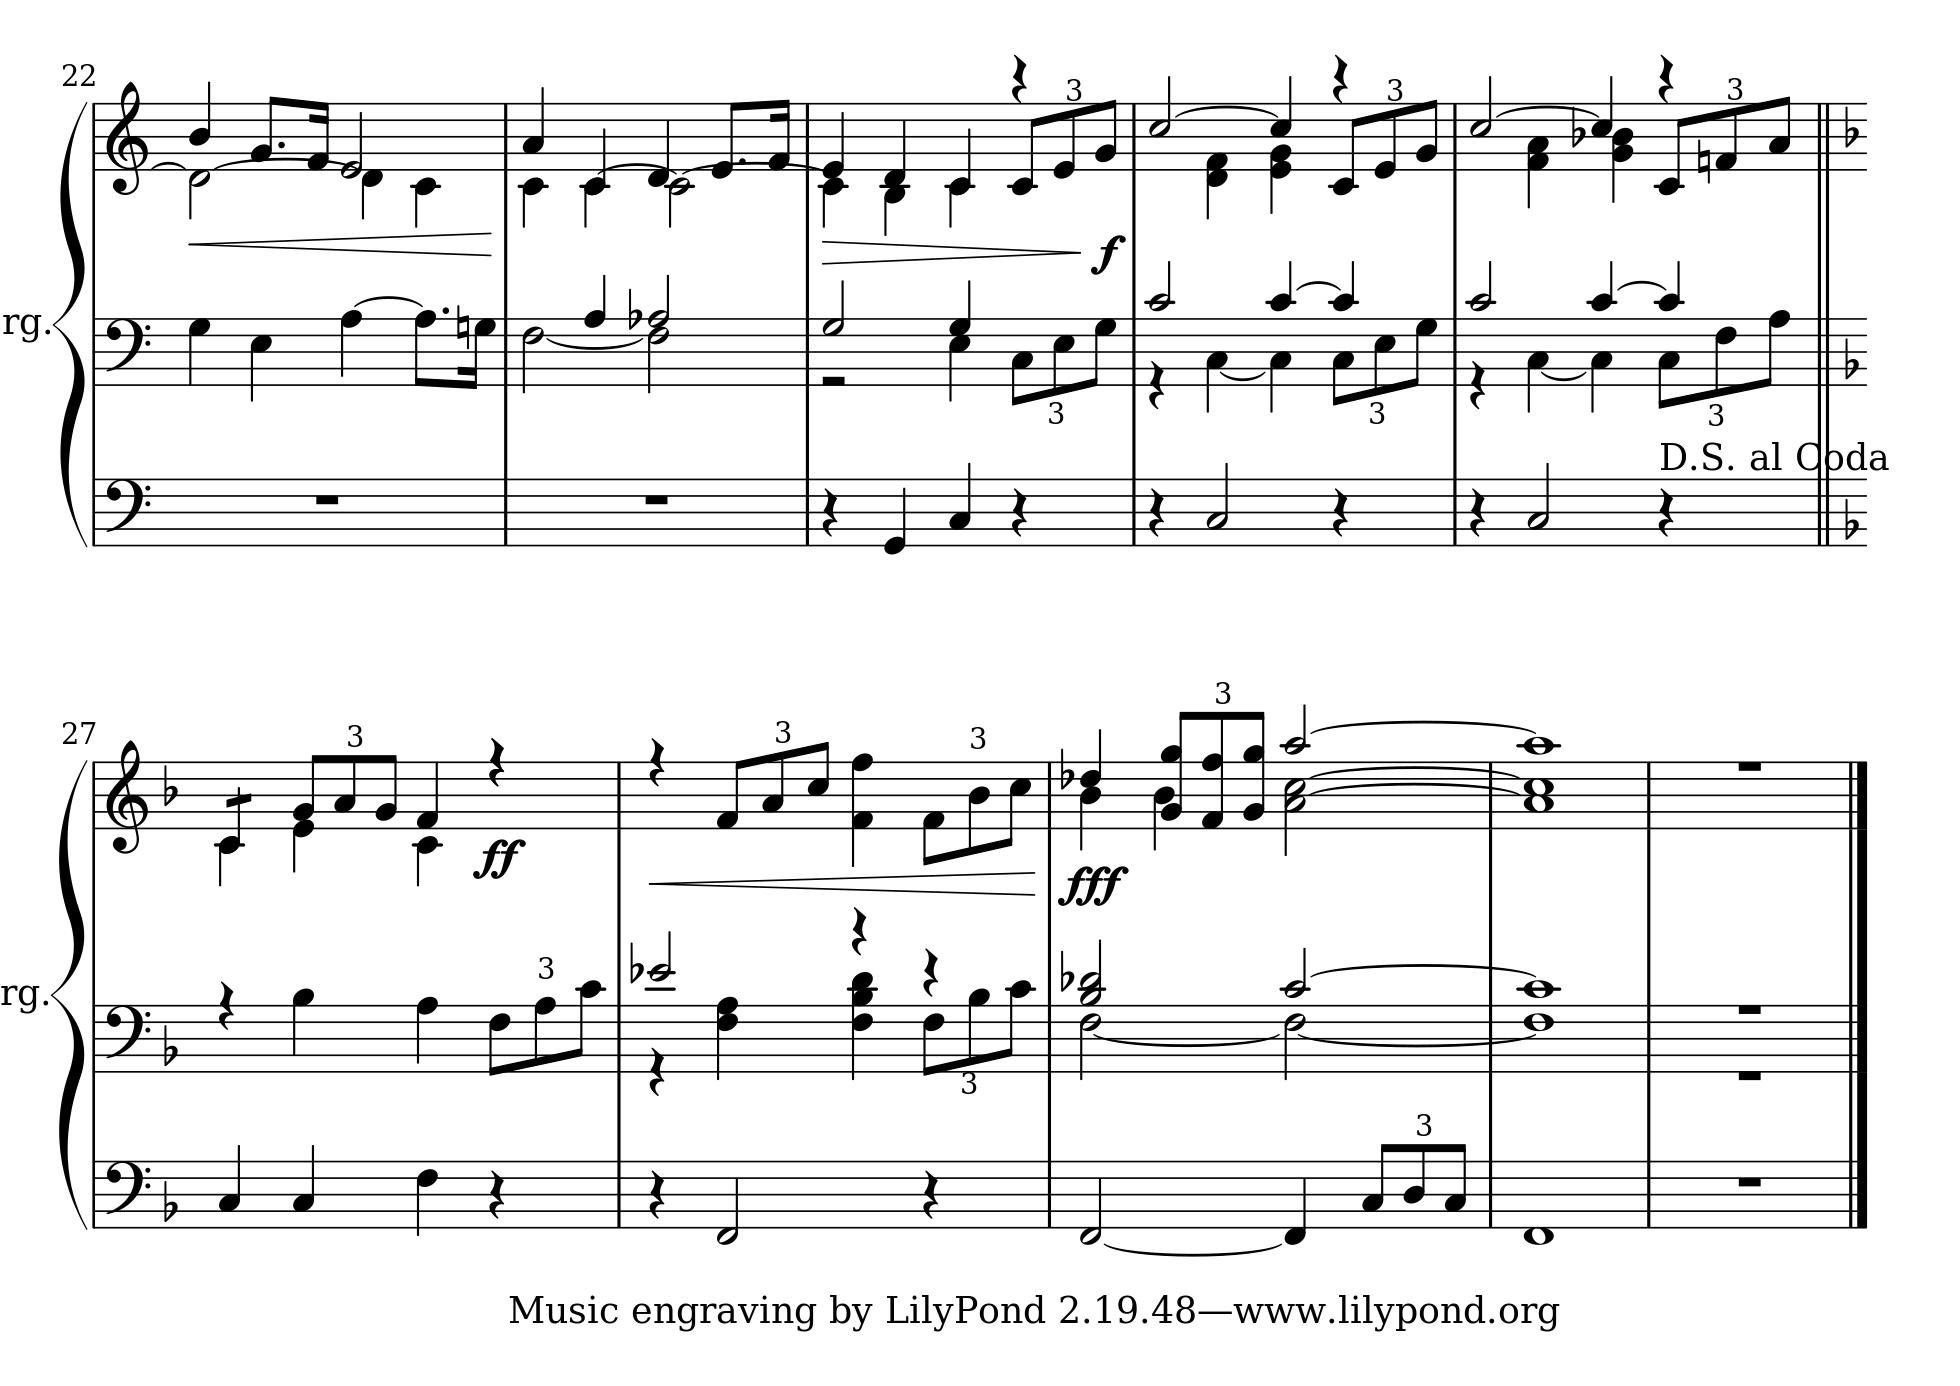16_1: (304, 100, 330, 172), (766, 97, 790, 172)
16_7: (462, 316, 498, 391)
1_-1: (1524, 1156, 1557, 1246)
1_6_10: (1524, 973, 1558, 1072)
1_th: (1521, 730, 1555, 829)
2: (58, 718, 79, 745), (60, 61, 79, 87), (78, 61, 96, 87)
2_-1: (1077, 1156, 1104, 1243), (715, 1158, 739, 1246)
2_0: (339, 100, 364, 180)
2_12: (646, 928, 678, 1071)
2_3: (1204, 460, 1231, 547), (1525, 462, 1552, 547)
2_5: (1147, 73, 1173, 172), (1468, 73, 1494, 172)
2_6: (520, 315, 544, 394), (1078, 1006, 1102, 1081)
2_6_10: (1284, 945, 1311, 1081)
2_6_8: (648, 271, 672, 394)
3: (958, 1072, 981, 1095), (1725, 75, 1744, 100), (1707, 402, 1726, 427), (346, 721, 364, 748), (1416, 1111, 1434, 1138), (1065, 76, 1083, 102), (1386, 76, 1404, 102), (1368, 399, 1386, 424), (969, 724, 987, 750), (537, 954, 555, 979), (1215, 679, 1231, 706), (1047, 400, 1065, 424), (774, 718, 792, 742)
4_-1: (360, 103, 382, 222), (1282, 1158, 1309, 1246), (646, 100, 670, 187)
4_-1_1: (1206, 100, 1230, 220)
4_-2: (411, 102, 439, 226), (946, 100, 973, 193)
4_-2_0: (816, 100, 850, 226)
4_-2_1: (411, 759, 441, 886)
4_-2_3: (520, 85, 550, 229)
4_-3_-1: (880, 100, 907, 238)
4_0: (882, 475, 907, 556)
4_1_3: (1527, 102, 1551, 211)
4_1_8: (849, 751, 874, 867)
4_2_4: (1614, 100, 1635, 202)
4_3: (1204, 316, 1230, 415), (1525, 316, 1551, 415), (1267, 318, 1293, 414), (1590, 316, 1614, 414), (948, 460, 973, 547), (217, 1141, 243, 1228), (291, 1141, 316, 1228)
4_4_6: (1078, 729, 1105, 853)
4_5: (247, 316, 273, 403), (1590, 75, 1612, 168)
4_5_7: (948, 277, 973, 403)
4_6: (414, 1158, 439, 1237)
4_6_8: (715, 996, 741, 1081)
4_7: (186, 316, 211, 387)
4_8: (339, 307, 364, 388), (414, 994, 439, 1075)
4_9: (289, 985, 316, 1074)
4_th: (844, 969, 877, 1081)
7: (79, 717, 97, 745)
8_-2: (1008, 100, 1044, 196), (1329, 102, 1363, 196), (1654, 102, 1689, 196)
8_0: (709, 99, 742, 180), (1051, 100, 1077, 178), (1372, 100, 1398, 178)
8_1: (919, 759, 945, 865), (714, 756, 748, 831), (1716, 100, 1740, 172)
8_10: (571, 979, 604, 1074), (1002, 979, 1033, 1074)
8_1_8: (1198, 711, 1227, 832)
8_2: (247, 94, 280, 171), (373, 753, 399, 831), (1095, 97, 1119, 172), (1416, 97, 1438, 172)
8_2_9: (1158, 711, 1194, 829), (1242, 709, 1269, 831)
8_3: (1360, 1141, 1393, 1230), (1329, 316, 1356, 406), (1656, 316, 1681, 409), (1009, 316, 1035, 406), (1443, 1141, 1468, 1230), (331, 751, 358, 831), (760, 748, 784, 831), (1767, 94, 1791, 171)
8_4: (966, 759, 990, 856), (1402, 1141, 1428, 1228)
8_5: (1002, 759, 1032, 847), (805, 739, 831, 829), (1051, 315, 1075, 397), (1372, 315, 1396, 397)
8_6: (1713, 315, 1738, 399), (487, 1003, 511, 1078), (921, 1003, 945, 1077)
8_7: (1087, 316, 1117, 388), (1407, 316, 1437, 388)
8_8: (582, 271, 607, 387), (1758, 307, 1791, 388), (412, 307, 438, 390), (532, 994, 556, 1075)
8_9: (966, 985, 990, 1075)
Brace: (49, 753, 88, 1234), (54, 100, 85, 559)
Crescendo_hairpin: (652, 871, 1038, 898), (187, 231, 493, 256)
DSalcoda: (1656, 439, 1897, 475)
Diminuendo_hairpin: (823, 240, 1084, 264)
Double_barline: (1812, 316, 1836, 385), (1813, 475, 1834, 544), (1815, 100, 1834, 169)
Fclef: (103, 1002, 151, 1074), (103, 315, 151, 385), (103, 1158, 151, 1228), (103, 475, 151, 544)
Final_barline: (1843, 760, 1872, 828), (1842, 1159, 1869, 1225), (1843, 1003, 1869, 1069)
Flat: (160, 762, 180, 808), (1842, 103, 1860, 150), (1569, 103, 1587, 148), (1842, 334, 1860, 379), (1842, 496, 1860, 541), (625, 286, 642, 331), (162, 1021, 178, 1066), (162, 1177, 178, 1222), (1059, 745, 1074, 792), (628, 939, 643, 984), (1059, 946, 1074, 991)
Gclef: (103, 79, 148, 196), (103, 738, 148, 855)
Natural: (1695, 136, 1713, 184), (454, 303, 471, 351)
Rests1: (310, 489, 343, 508), (640, 490, 672, 508), (1735, 1065, 1764, 1084), (1734, 1171, 1764, 1189), (1734, 757, 1765, 774), (1735, 1000, 1765, 1017)
Rests2: (817, 370, 849, 391)
Rests4: (484, 1168, 508, 1222), (819, 484, 841, 538), (1146, 484, 1168, 538), (1467, 484, 1489, 538), (645, 1168, 667, 1222), (847, 904, 870, 957), (919, 1168, 942, 1221), (646, 1044, 667, 1099), (1146, 358, 1167, 412), (1009, 484, 1030, 538), (1330, 484, 1351, 538), (1656, 484, 1677, 538), (486, 735, 507, 789), (1008, 51, 1029, 103), (1468, 358, 1489, 411), (919, 945, 940, 997), (1330, 52, 1351, 103), (1656, 52, 1677, 103), (646, 736, 667, 787), (217, 979, 237, 1030)
Single_barline: (496, 316, 516, 385), (496, 103, 516, 169), (798, 318, 817, 384), (796, 478, 816, 544), (609, 762, 628, 828), (1125, 316, 1143, 385), (1446, 316, 1464, 385), (496, 478, 514, 546), (1125, 478, 1143, 544), (1446, 478, 1464, 544), (1639, 760, 1657, 826), (1639, 1003, 1657, 1069), (1482, 1005, 1500, 1071), (1482, 1159, 1500, 1225), (610, 1003, 627, 1072), (87, 1003, 103, 1072), (1042, 1003, 1059, 1072), (799, 102, 816, 168), (1126, 103, 1143, 169), (1447, 103, 1464, 169), (1483, 760, 1500, 826), (87, 760, 103, 826), (1042, 760, 1059, 826), (1041, 1159, 1057, 1225), (610, 1159, 627, 1225), (1641, 1159, 1657, 1225), (87, 102, 102, 169), (88, 318, 103, 385), (88, 1159, 103, 1227), (88, 478, 102, 546)
Slur: (1311, 718, 1536, 735), (1299, 1033, 1542, 1048), (1311, 783, 1524, 796), (1308, 765, 1518, 778), (1092, 1032, 1281, 1047), (1308, 964, 1540, 976), (1176, 103, 1279, 118), (1497, 103, 1599, 118), (544, 334, 645, 349), (351, 294, 426, 307), (1617, 277, 1668, 292), (601, 160, 664, 172), (1218, 369, 1266, 382), (1539, 369, 1590, 381), (1296, 279, 1341, 292), (151, 160, 186, 169)
dot: (274, 138, 288, 150), (439, 304, 451, 316), (735, 154, 748, 165)
f: (1089, 234, 1128, 276)
ff: (471, 837, 526, 883)
fff: (1056, 862, 1129, 910)
